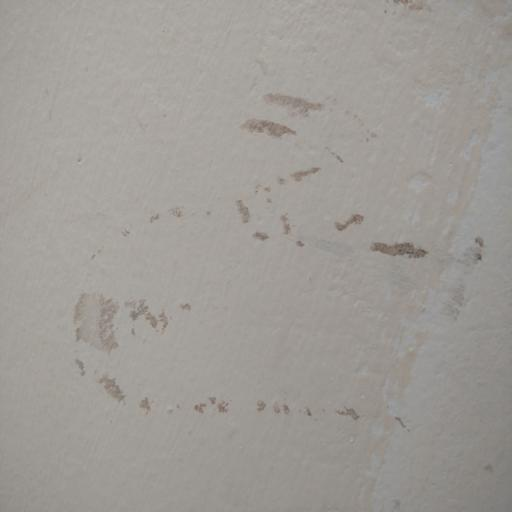stain: (64, 69, 486, 437)
